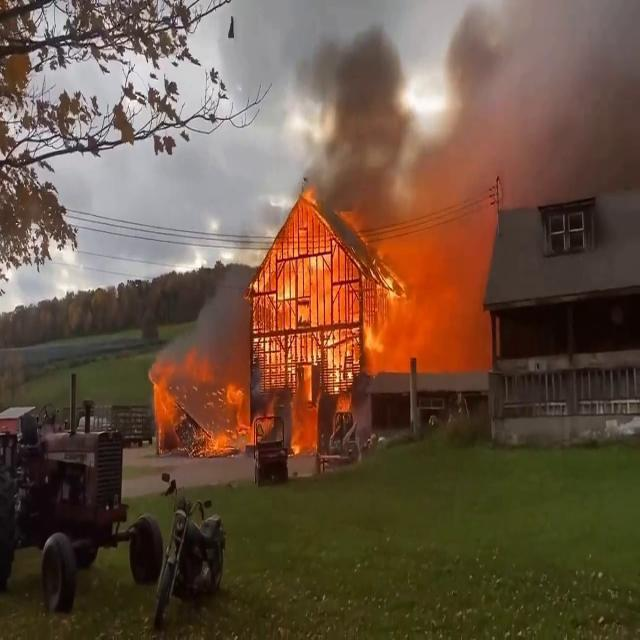Fire: (264, 185, 432, 388), (146, 348, 260, 456), (286, 378, 322, 464)
Smoke: (431, 0, 640, 285), (296, 18, 418, 208)
